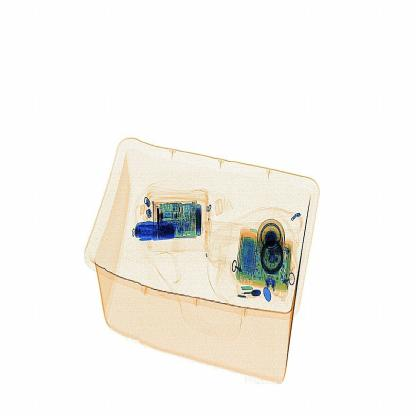scissors: (129, 215, 198, 254)
